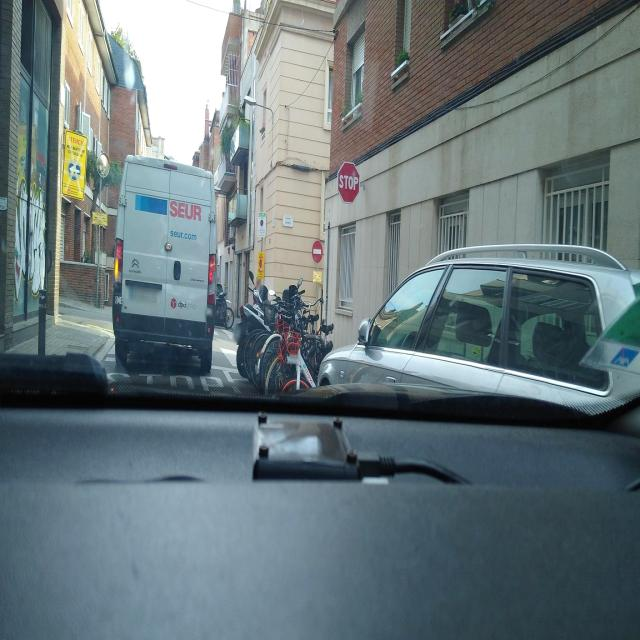bike: (254, 291, 318, 394), (235, 287, 292, 379)
car: (317, 243, 640, 421), (112, 153, 216, 373)
